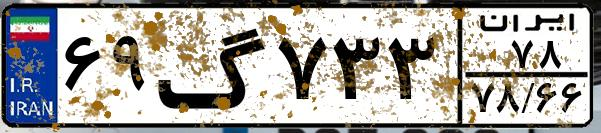3: (385, 28, 445, 110), (330, 28, 385, 110)
6: (57, 26, 110, 100), (560, 70, 590, 125), (535, 70, 560, 125)
7: (270, 28, 330, 110), (508, 27, 537, 80), (470, 70, 495, 125)
8: (537, 27, 568, 80), (495, 70, 520, 125)
9: (110, 28, 156, 98)
گ: (156, 12, 270, 120)
